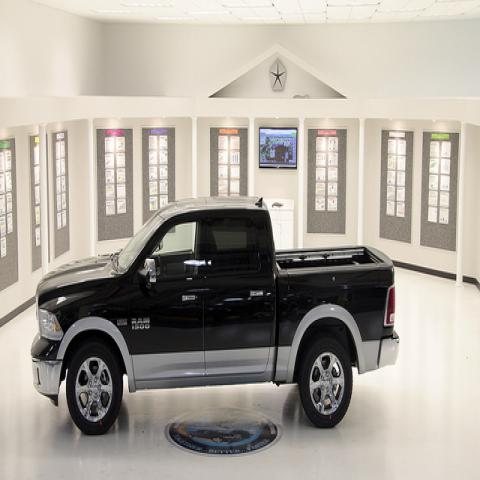truck: (29, 196, 399, 440)
